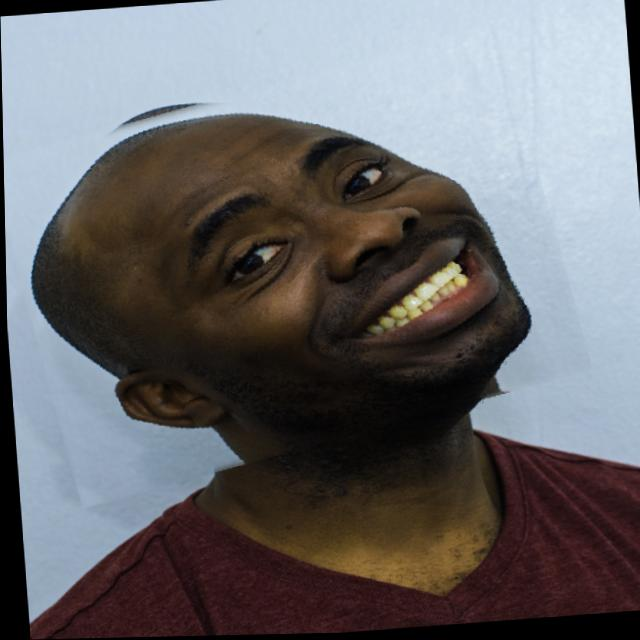happy: (1, 44, 582, 489)
